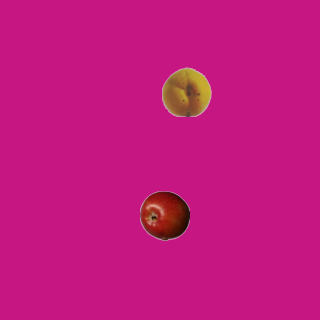Apple Braeburn: (139, 190, 189, 240)
Peach 2: (161, 66, 211, 116)
